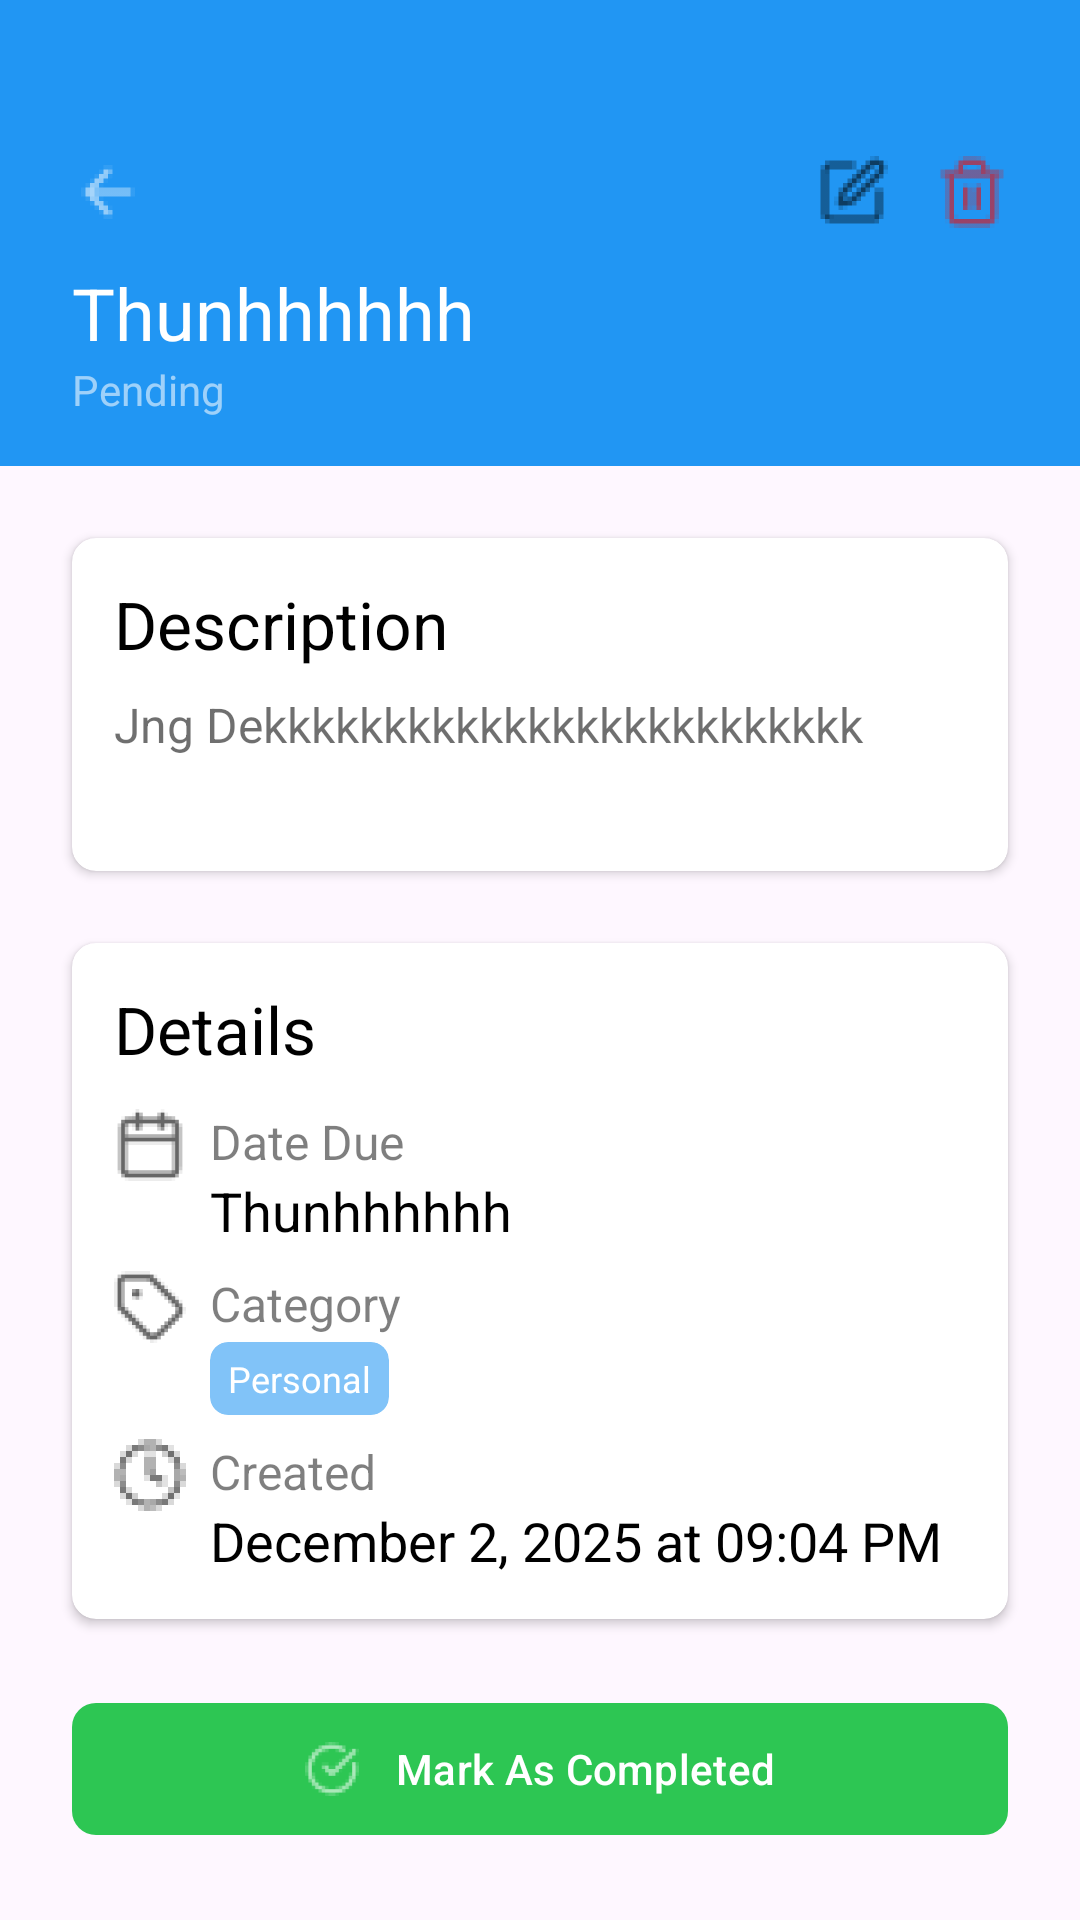

Point at icon controls on the screen. Image size 1080 × 1920, points as [x,y].
back: [108,192]
day due: [150,1145]
delele: [972,192]
edit: [854,190]
